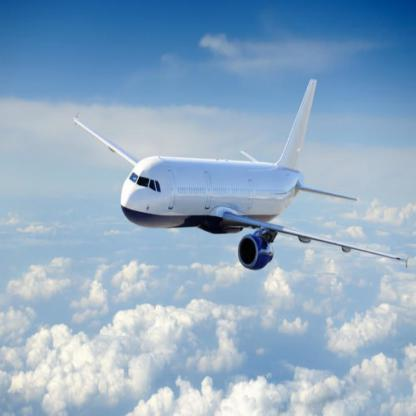CIV_Plane: (65, 76, 412, 284)
